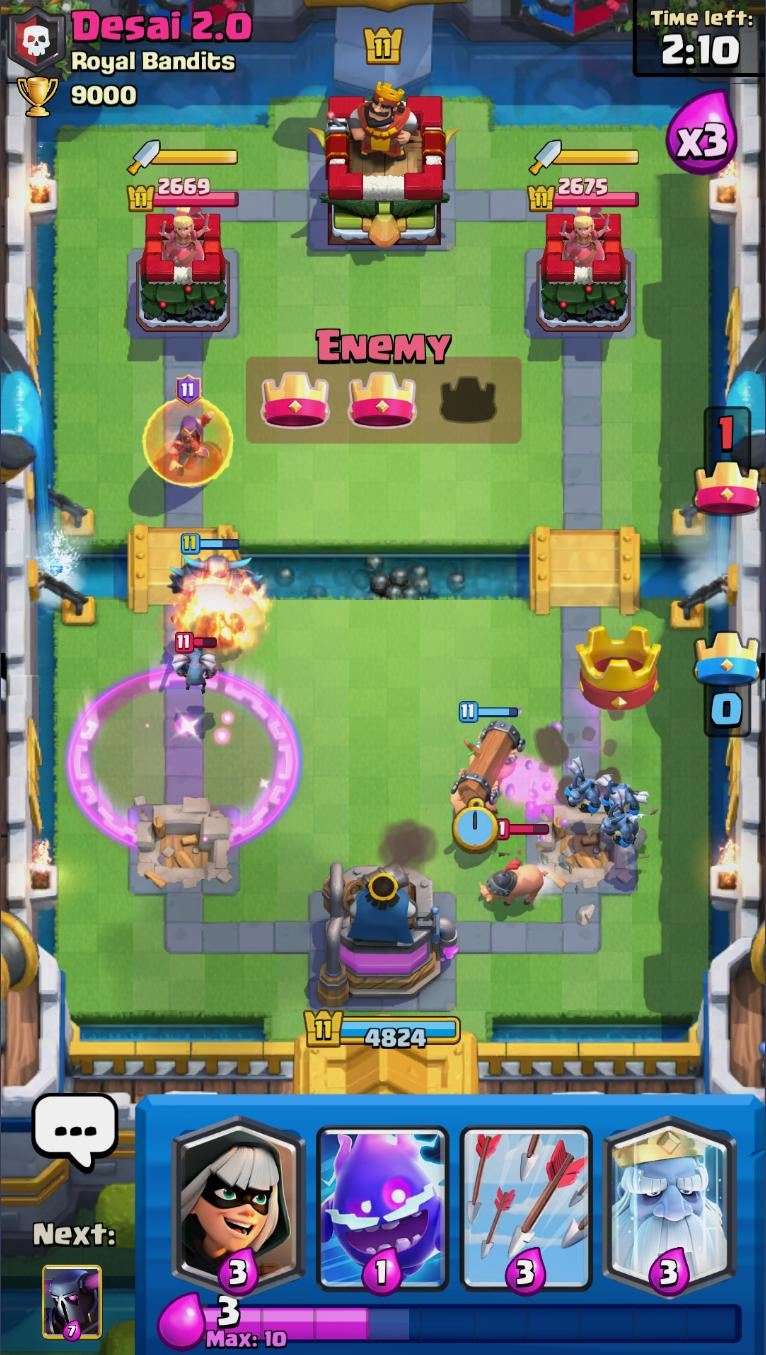ArrowDeck: (454, 1096, 600, 1296)
BanditDeck: (166, 1096, 311, 1294)
DaggerDuchess: (157, 206, 210, 266), (557, 206, 611, 264)
Daggers: (126, 140, 240, 176), (531, 139, 640, 173)
ElectroSpiritDeck: (313, 1099, 451, 1297)
Elixir: (203, 1294, 744, 1351)
EnemyTower: (136, 214, 234, 334), (539, 211, 633, 333)
EvoWizard: (141, 376, 233, 487)
KingTower: (320, 74, 451, 251)
Minion: (173, 631, 220, 690)
MyBattleRam: (450, 700, 526, 819)
MyKingHP: (304, 1009, 461, 1050)
MyKingTower: (314, 859, 460, 1011)
MyMinion: (559, 757, 613, 813), (596, 767, 653, 819), (599, 797, 647, 847)
MyPekka: (166, 530, 266, 606)
MyPrincessTowerBrocken: (527, 771, 641, 889), (124, 796, 240, 893)
PekkaNext: (41, 1264, 103, 1343)
Rage: (71, 669, 299, 849)
RoyaleGhostDeck: (597, 1094, 741, 1299)
RoyalePig: (481, 820, 546, 909)
TowerPrincessHP: (127, 174, 240, 210), (530, 176, 641, 210)
